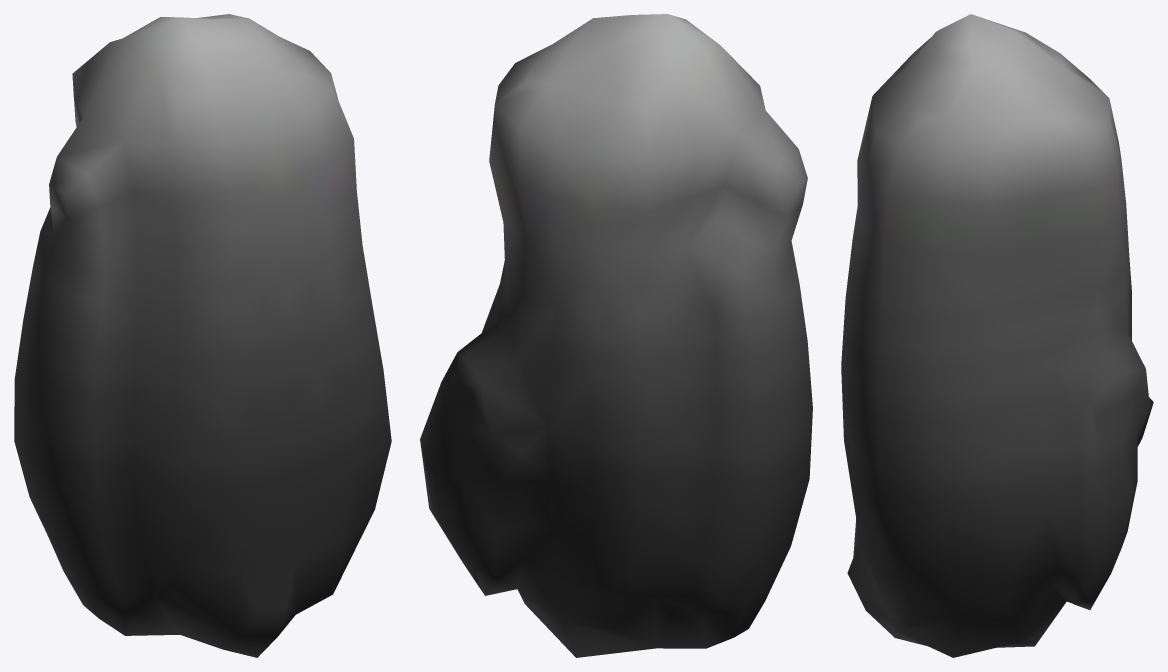
File: M_Environment_StoneL_01.fbx
The picture shows the model from 3 angles, left to right: view 1: azimuth 30°, elevation 25°; view 2: azimuth 150°, elevation 25°; view 3: azimuth 270°, elevation 25°; orthographic projection. The views are drawn at different scales.
Visible parts, largest first — view 1: M_Environment_StoneL_01; view 2: M_Environment_StoneL_01; view 3: M_Environment_StoneL_01.
Part boxes in pixels (box(x1,y1,x2,y2)): M_Environment_StoneL_01: box(14, 14, 391, 657); M_Environment_StoneL_01: box(420, 14, 812, 657); M_Environment_StoneL_01: box(841, 14, 1153, 657).
Size of the model in its own units: 1448 by 2592 by 1209.
Materials: 1 (1 with a texture image).
